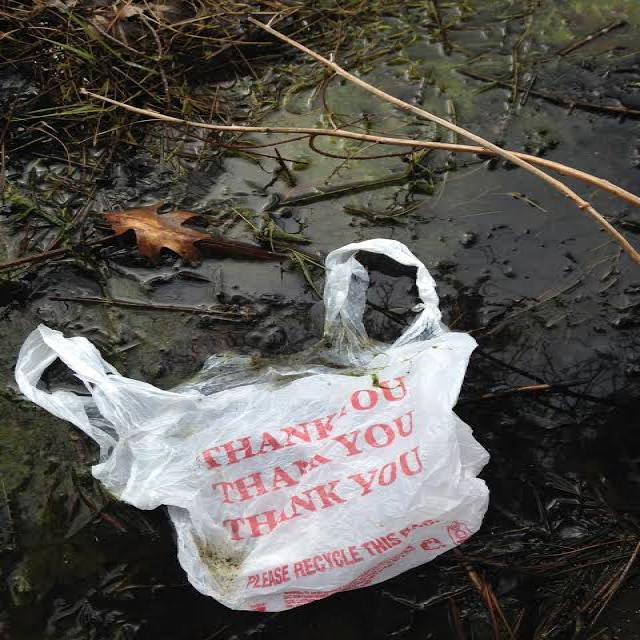plastic bag: (12, 236, 499, 626)
